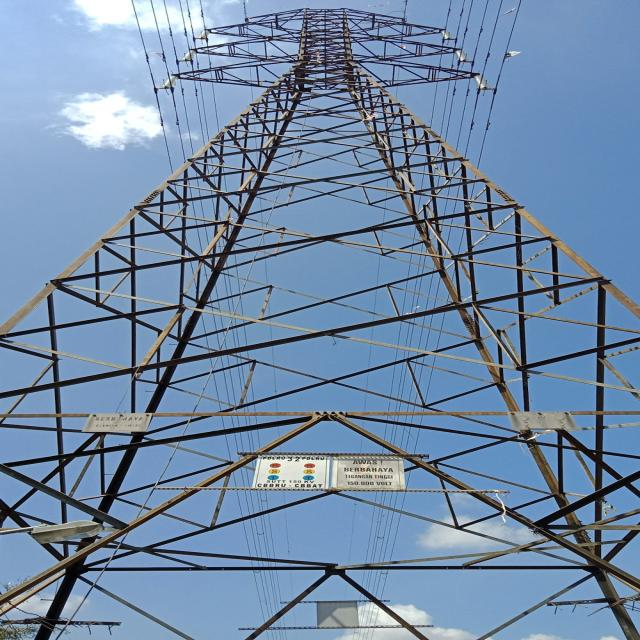transmission tower: (50, 0, 582, 619)
